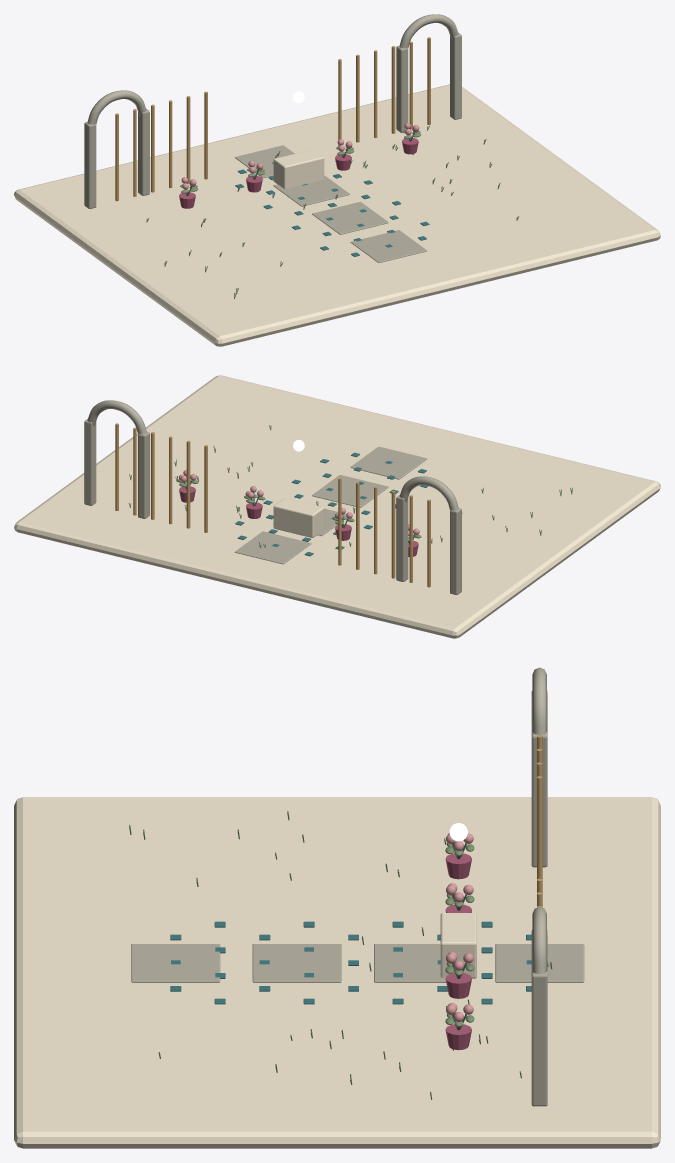
The model's file is ala_courtyard-BpNIw_W-.glb.
3 renders of one model, top to bottom at view 1: azimuth 30°, elevation 25°; view 2: azimuth 150°, elevation 25°; view 3: azimuth 270°, elevation 25°, orthographic. The views are drawn at different scales.
Visible parts, largest first — view 1: world_cream.046, world_stone.046, world_brass.046, FX_garden_rose.046, world_Story primary.021, FX_garden_flower.046; view 2: world_cream.046, world_stone.046, world_brass.046, world_Story primary.021, FX_garden_rose.046, FX_garden_flower.046; view 3: world_cream.046, world_stone.046, world_Story primary.021, FX_garden_rose.046, FX_garden_flower.046, world_brass.046, FX_garden_leaf.046.
Part boxes in pixels (<box>): world_cream.046: <box>14,84,660,346</box>; world_stone.046: <box>84,14,461,262</box>; world_brass.046: <box>115,37,430,201</box>; FX_garden_rose.046: <box>179,138,418,208</box>; world_Story primary.021: <box>235,161,429,256</box>; FX_garden_flower.046: <box>181,122,419,189</box>; world_cream.046: <box>14,375,660,638</box>; world_stone.046: <box>84,400,461,595</box>; world_brass.046: <box>115,423,430,587</box>; world_Story primary.021: <box>235,452,428,556</box>; FX_garden_rose.046: <box>179,486,418,556</box>; FX_garden_flower.046: <box>178,469,419,535</box>; world_cream.046: <box>14,797,660,1148</box>; world_stone.046: <box>131,667,584,1106</box>; world_Story primary.021: <box>170,921,531,1004</box>; FX_garden_rose.046: <box>445,853,471,1050</box>; FX_garden_flower.046: <box>446,833,473,1021</box>; world_brass.046: <box>537,735,542,907</box>; FX_garden_leaf.046: <box>445,842,474,1026</box>.
Bounding box in the file's own units: 20 × 5.15 × 16.
